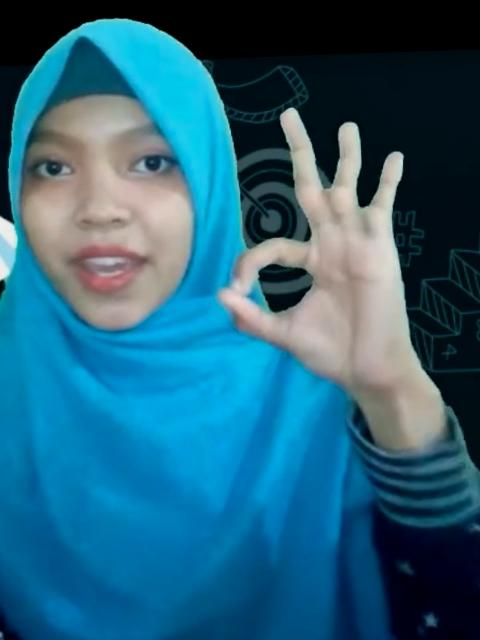F: (214, 100, 416, 398)
